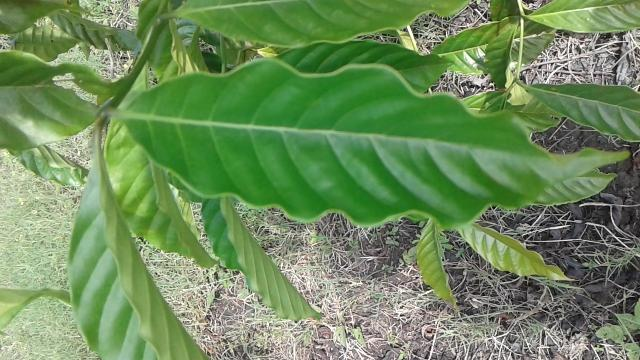healthy: (117, 53, 640, 232)
